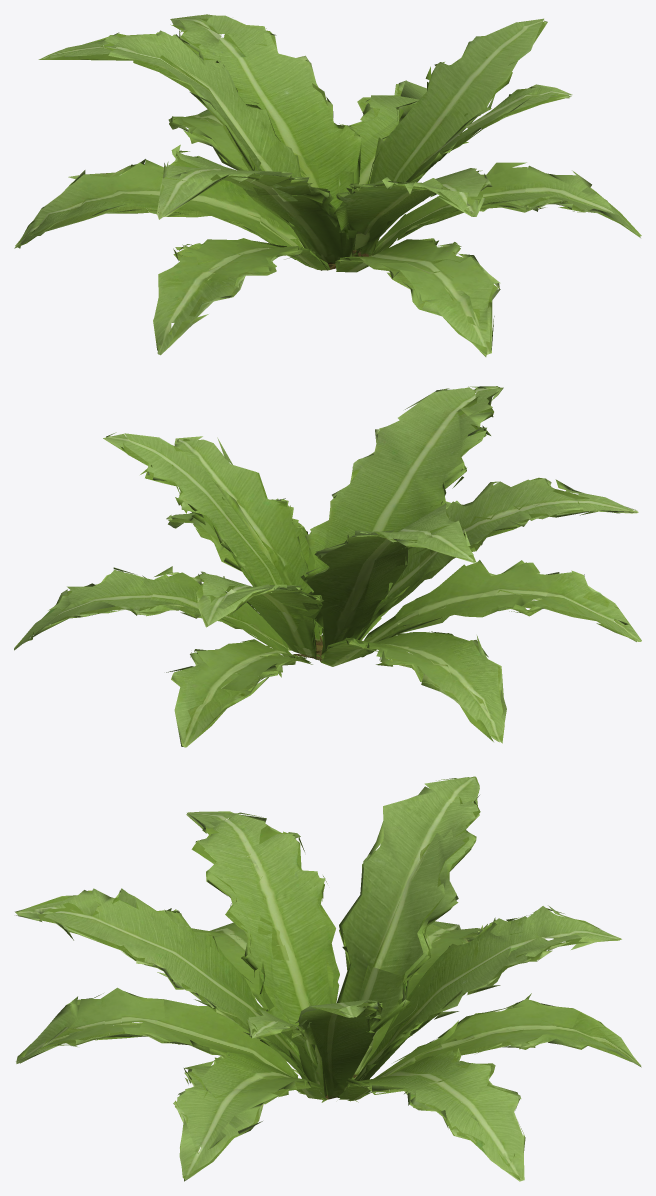
Rendered from staurogyne_b.glb.
3 renders of one model, top to bottom at view 1: azimuth 30°, elevation 25°; view 2: azimuth 150°, elevation 25°; view 3: azimuth 270°, elevation 25°, orthographic. The views are drawn at different scales.
Visible parts, largest first — view 1: staurogyne_b; view 2: staurogyne_b; view 3: staurogyne_b.
Boxes of the visible parts, box(x1,y1,x2,y2) form: staurogyne_b: box(14, 14, 641, 356); staurogyne_b: box(14, 386, 641, 747); staurogyne_b: box(15, 776, 641, 1181).
Bounding box in the file's own units: 0.8874 × 0.3838 × 1.
1 material, 1 textured.
